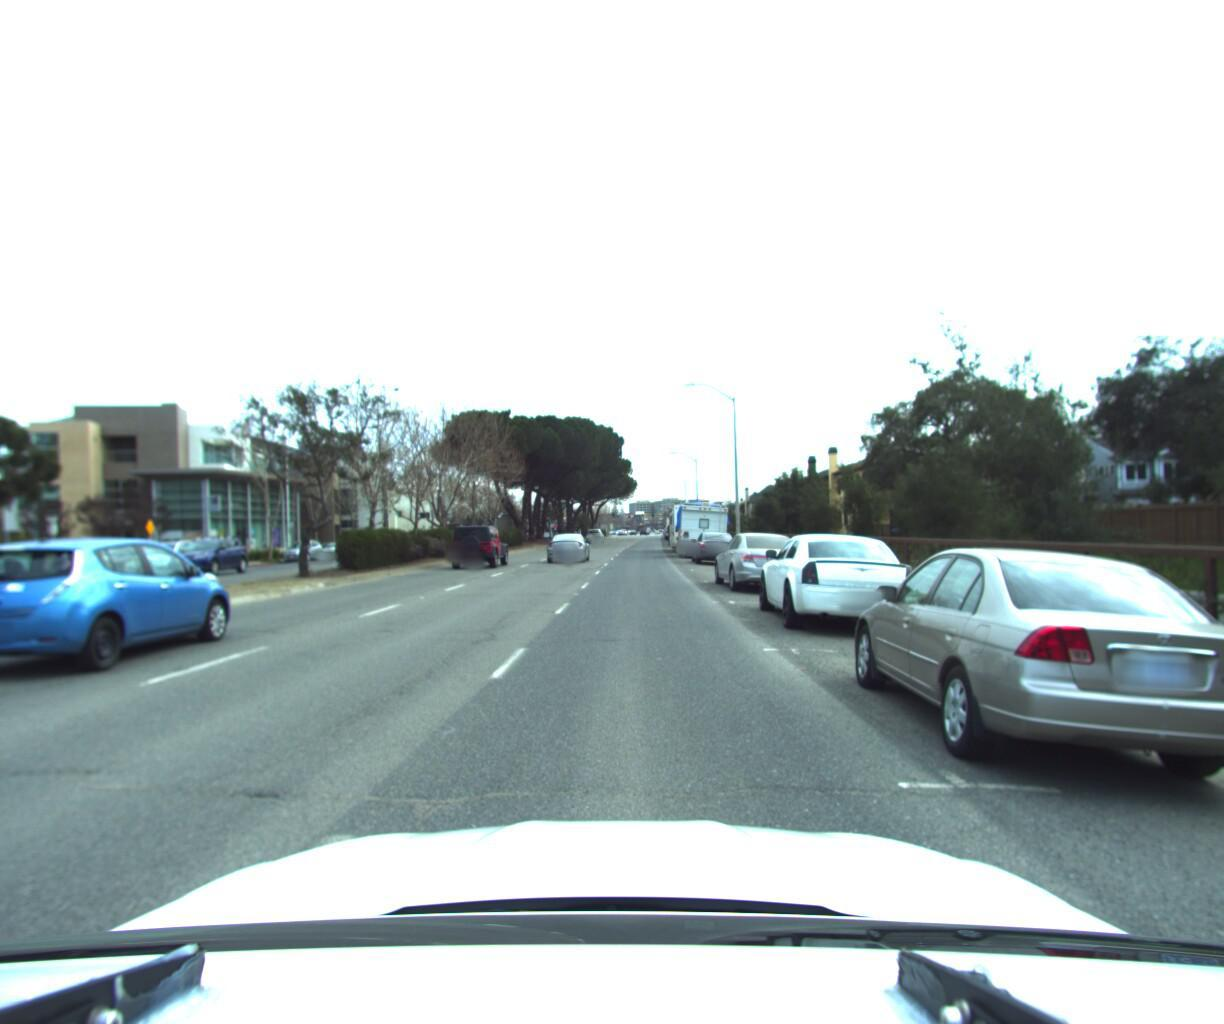car: (834, 534, 1224, 825), (0, 528, 258, 686), (758, 524, 936, 642), (715, 526, 819, 596), (169, 535, 257, 581), (121, 538, 208, 581), (450, 521, 513, 569), (0, 551, 58, 598), (691, 526, 742, 565), (546, 527, 590, 563), (281, 537, 329, 562)
other_vehicle: (676, 496, 733, 557), (668, 492, 719, 551)
